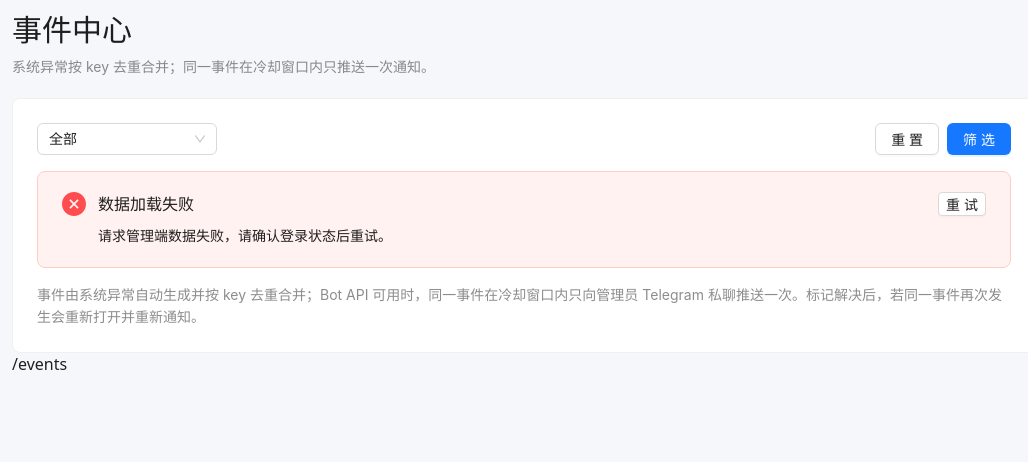
Test: 事件中心页 › 加载失败展示错误态，重试会重新发起查询
This screenshot has width=1028, height=462.
Expected: the message "数据加载失败 请求管理端数据失败，请确认登录状态后重试。 重 试" is shown, [37,170,1011,268]
Click the button "重 试" at point(962, 204), box [938,192,986,216]
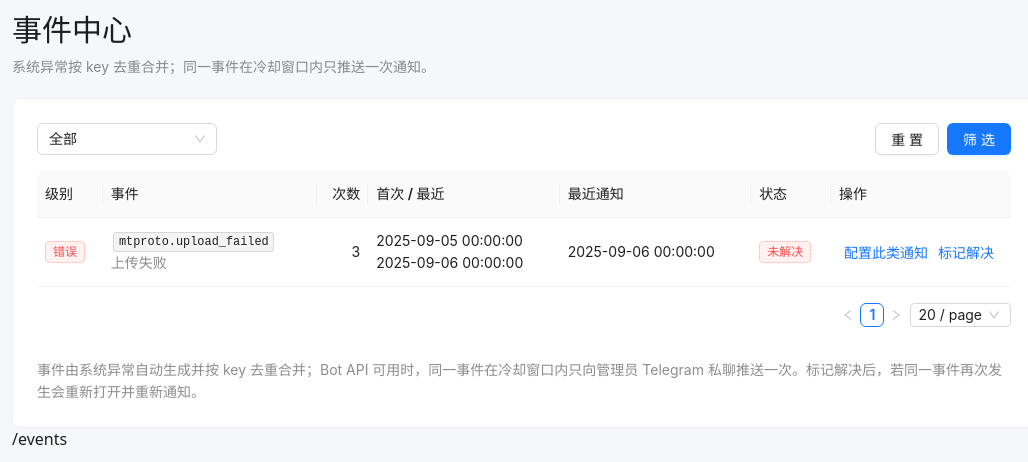
Now the text "mtproto.upload_failed" is shown, box [113,232,274,252]
